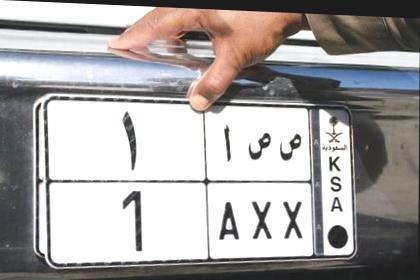License_Plate: (24, 88, 367, 280)
